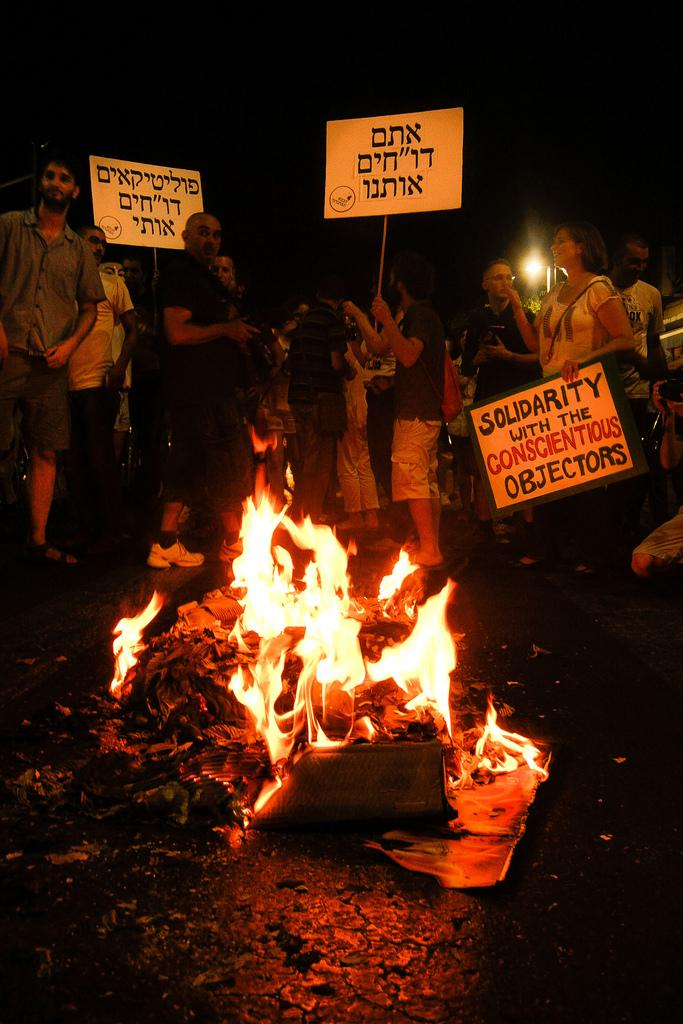fire: (242, 505, 345, 700), (395, 595, 465, 715)
